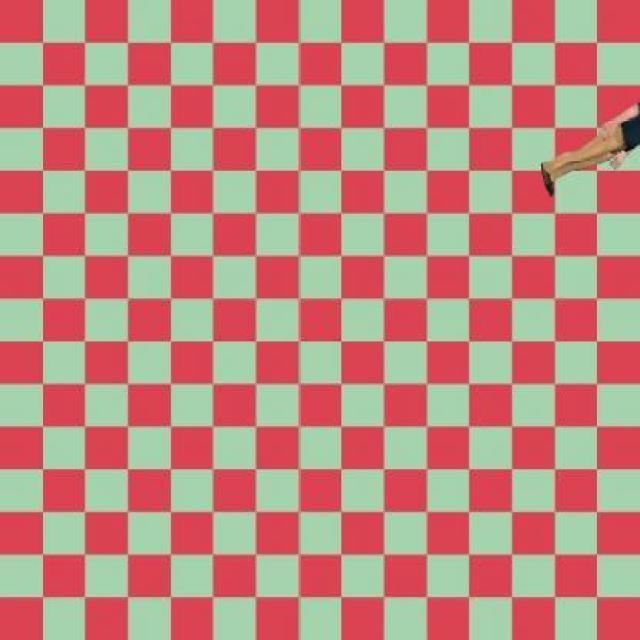Person: (535, 102, 639, 203)
